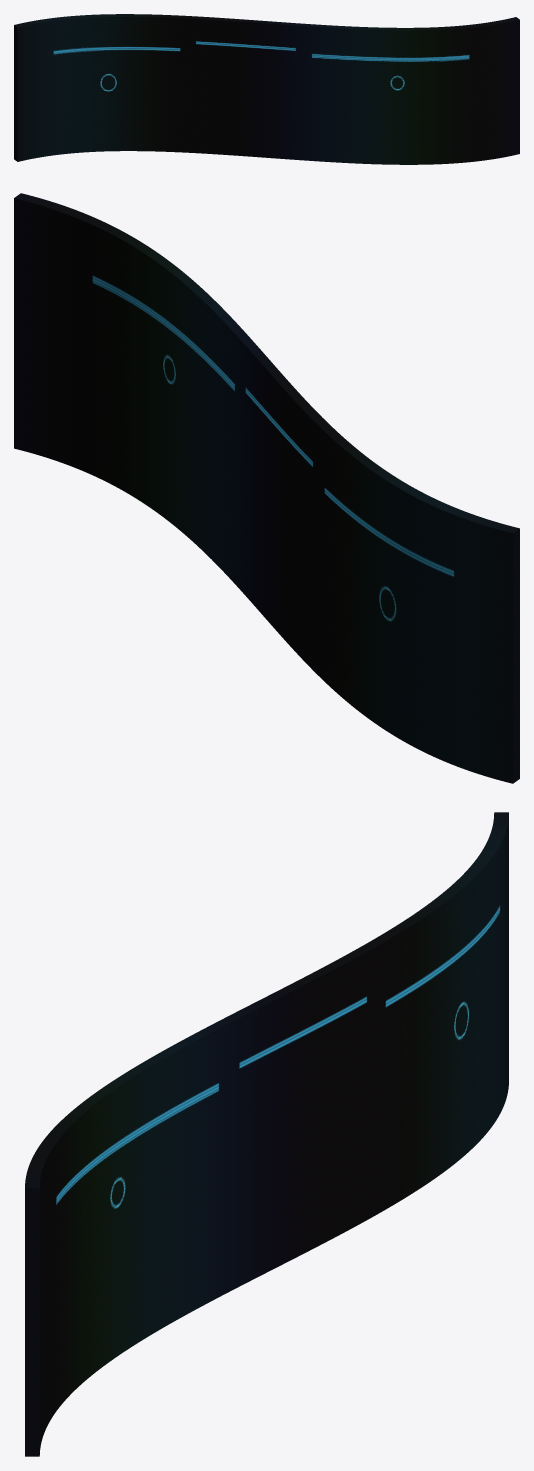
Rendered from visor.obj.
3 renders of one model, top to bottom at view 1: azimuth 30°, elevation 25°; view 2: azimuth 150°, elevation 25°; view 3: azimuth 270°, elevation 25°, orthographic. The views are drawn at different scales.
Bounding box in the file's own units: 0.36 × 0.12 × 0.196.
1 material, 1 textured.
